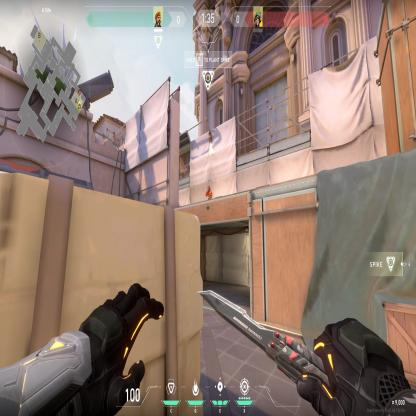enemy: (205, 184, 212, 200)
